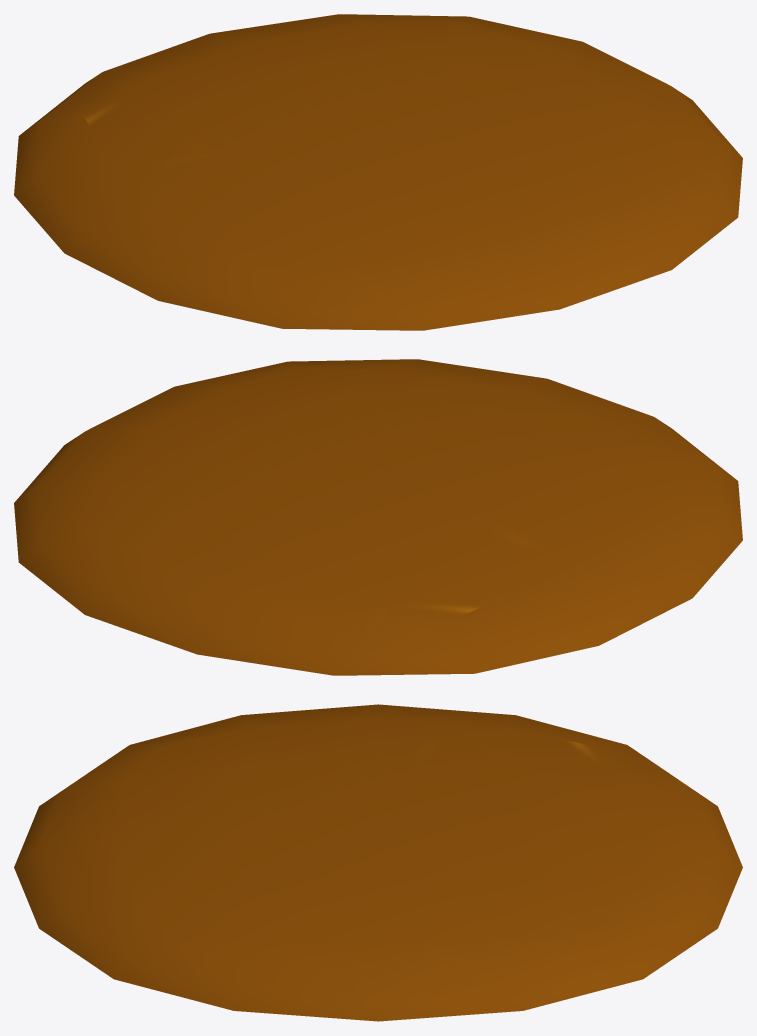
File: MudColor_6cm.fbx
3 renders of one model, top to bottom at view 1: azimuth 30°, elevation 25°; view 2: azimuth 150°, elevation 25°; view 3: azimuth 270°, elevation 25°, orthographic.
Parts seen in each view (by area): view 1: MuDColoR; view 2: MuDColoR; view 3: MuDColoR.
Boxes of the visible parts, x1,y1,x2,y2 form: MuDColoR: (14,14,742,330); MuDColoR: (14,359,742,675); MuDColoR: (14,704,742,1021).
Bounding box in the file's own units: 1125 × 83.95 × 1125.
Materials: 1 (1 with a texture image).
